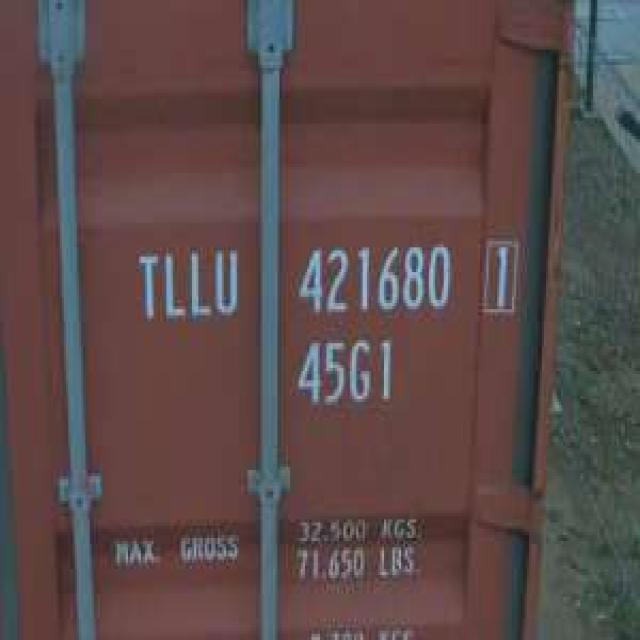dv: (476, 228, 520, 322)
owner: (128, 238, 243, 328)
serial: (290, 235, 455, 322)
size: (292, 331, 399, 417)
